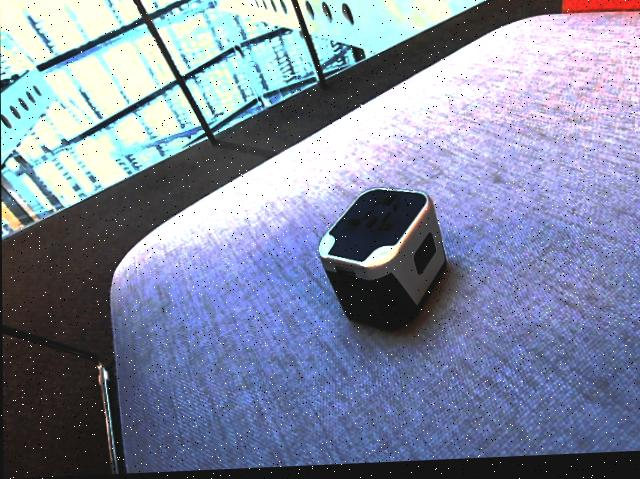adapter: (316, 188, 446, 336)
